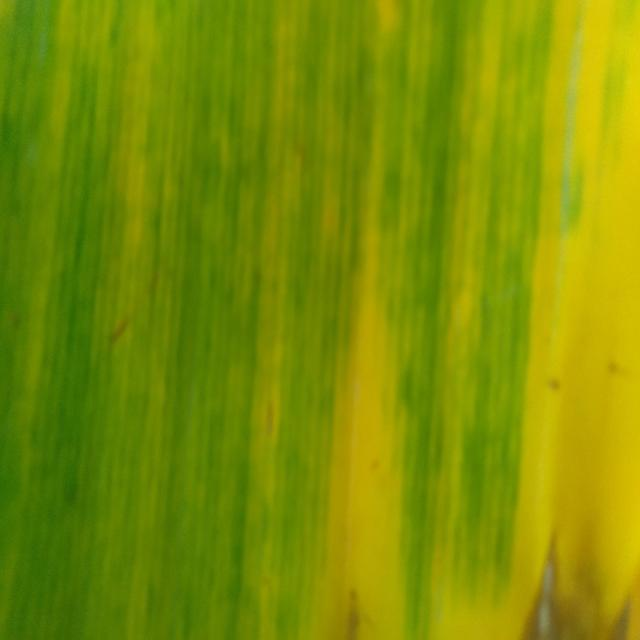Cordana: (305, 0, 640, 640), (2, 0, 310, 639)
